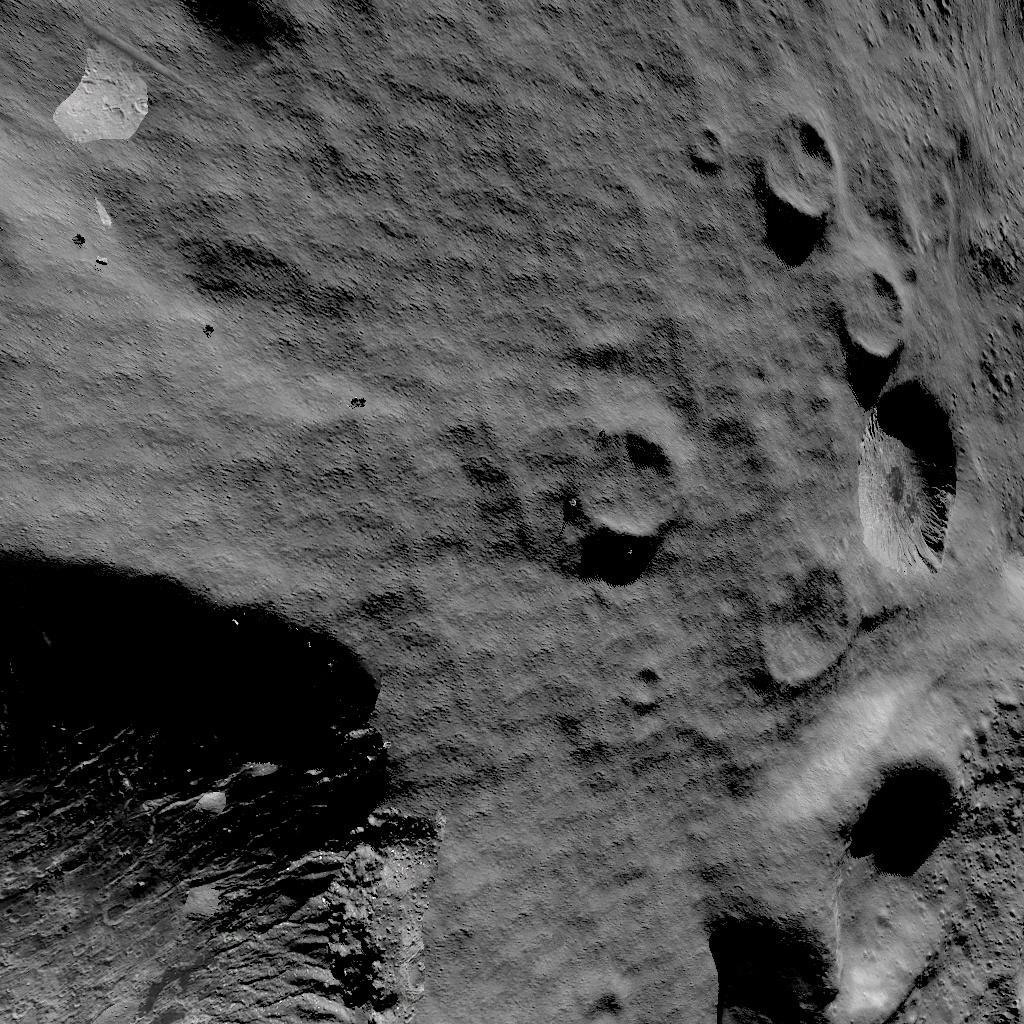Boulders: (49, 38, 159, 140)
Crater: (0, 532, 431, 1024), (721, 712, 981, 1024), (753, 380, 961, 686), (559, 416, 692, 556), (755, 108, 848, 228), (823, 268, 914, 364)
Plan surface: (0, 156, 541, 516)
